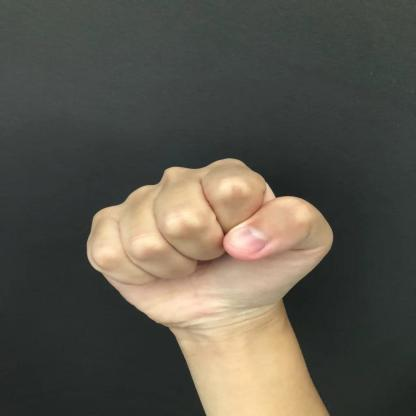fist: (66, 141, 363, 342)
